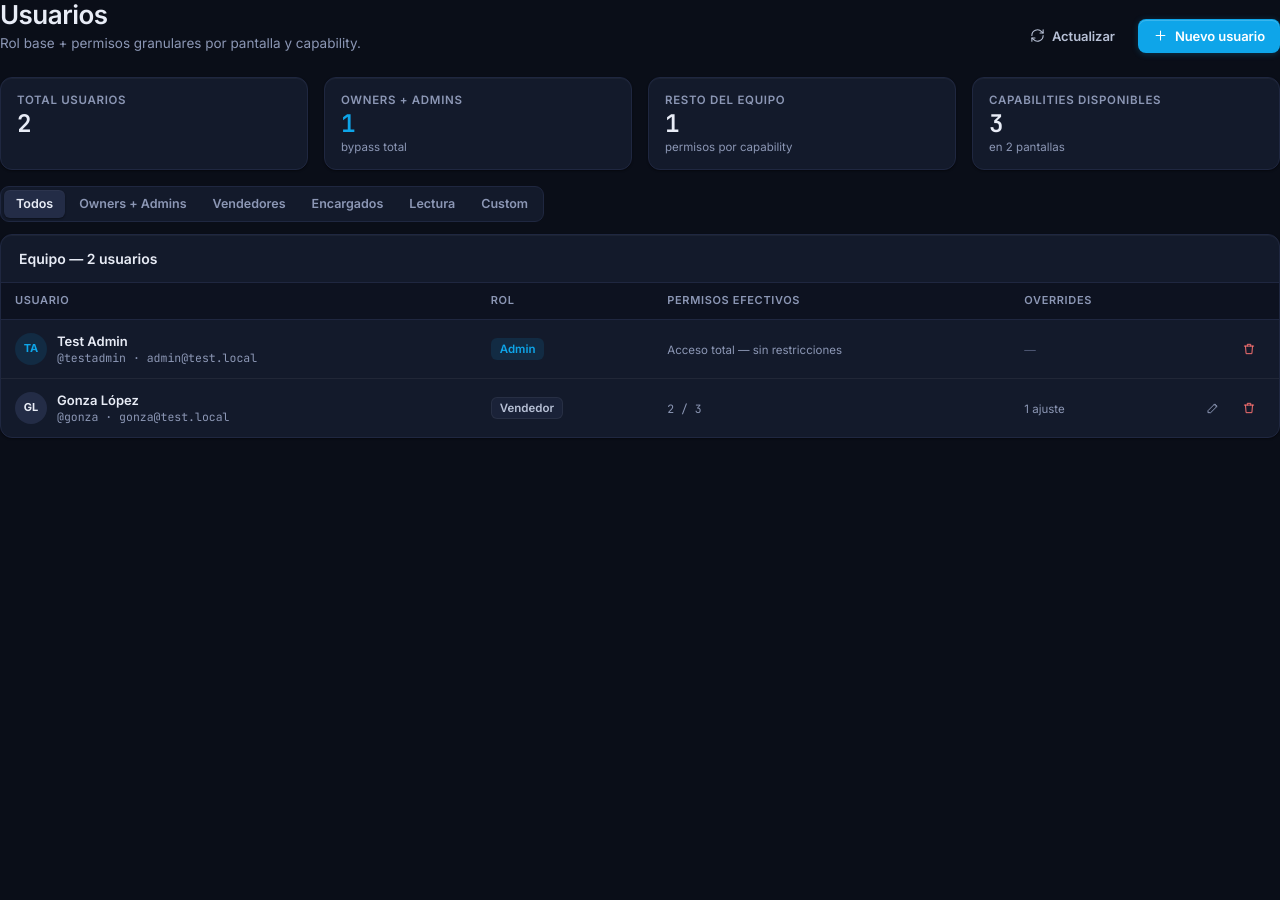
Test case: Pantalla Usuarios — alta › botón "Nuevo usuario" abre el modal de alta
Click the button "Nuevo usuario".
click(1209, 36)  # box [1138,19,1279,53]
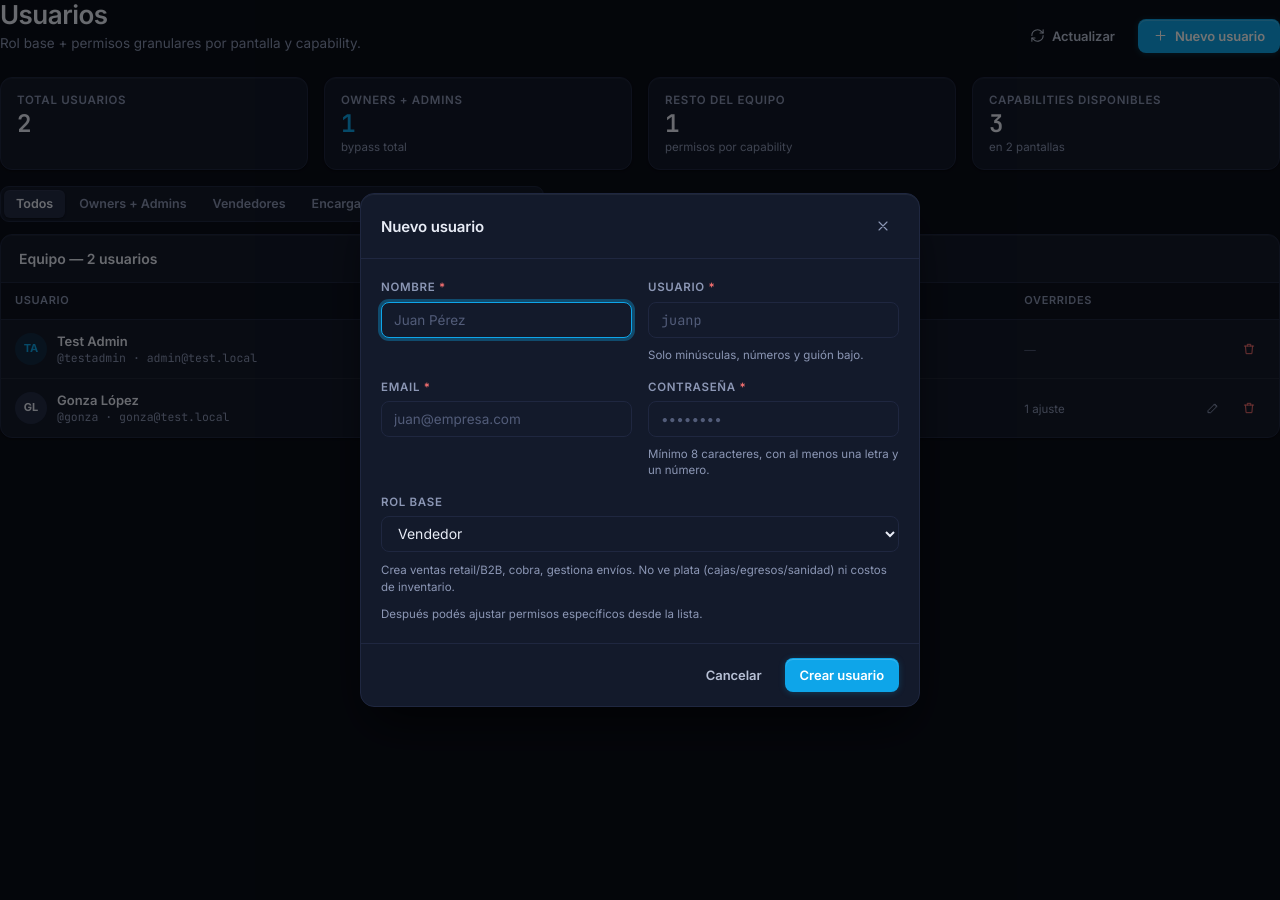
Result: the button "Crear usuario" is shown at [785,658,899,692]
